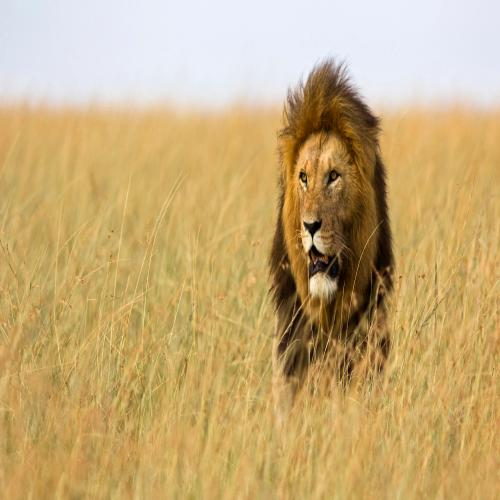lion-endangered: (264, 62, 395, 430)
